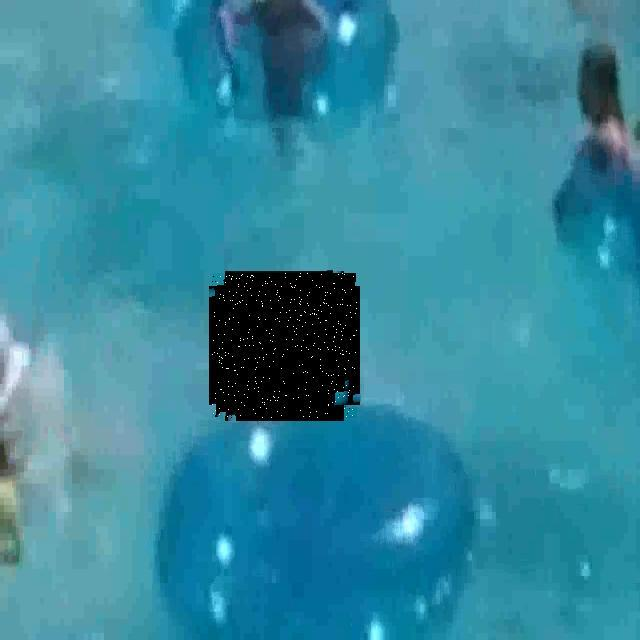Out of Water: (212, 273, 357, 418)
